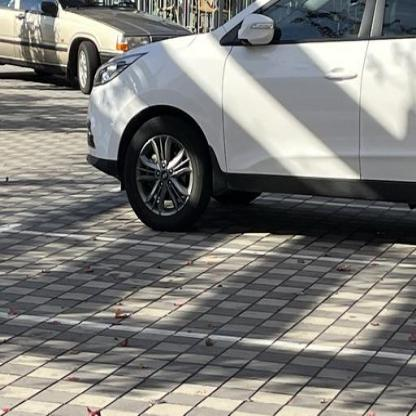Tire: (124, 112, 212, 233), (76, 40, 100, 96)
